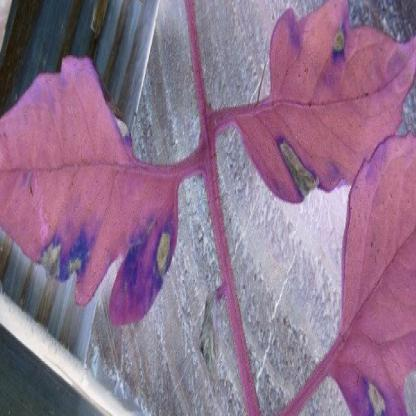tomato leaf bacterial spot: (3, 28, 186, 338), (232, 6, 411, 229)
